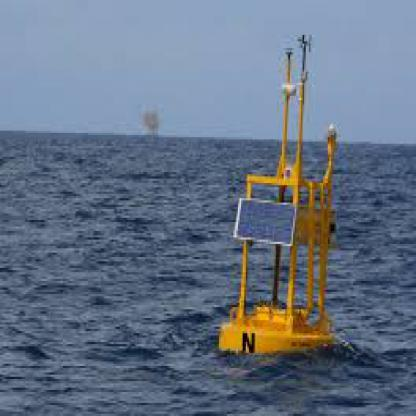buoy: (211, 28, 347, 364)
